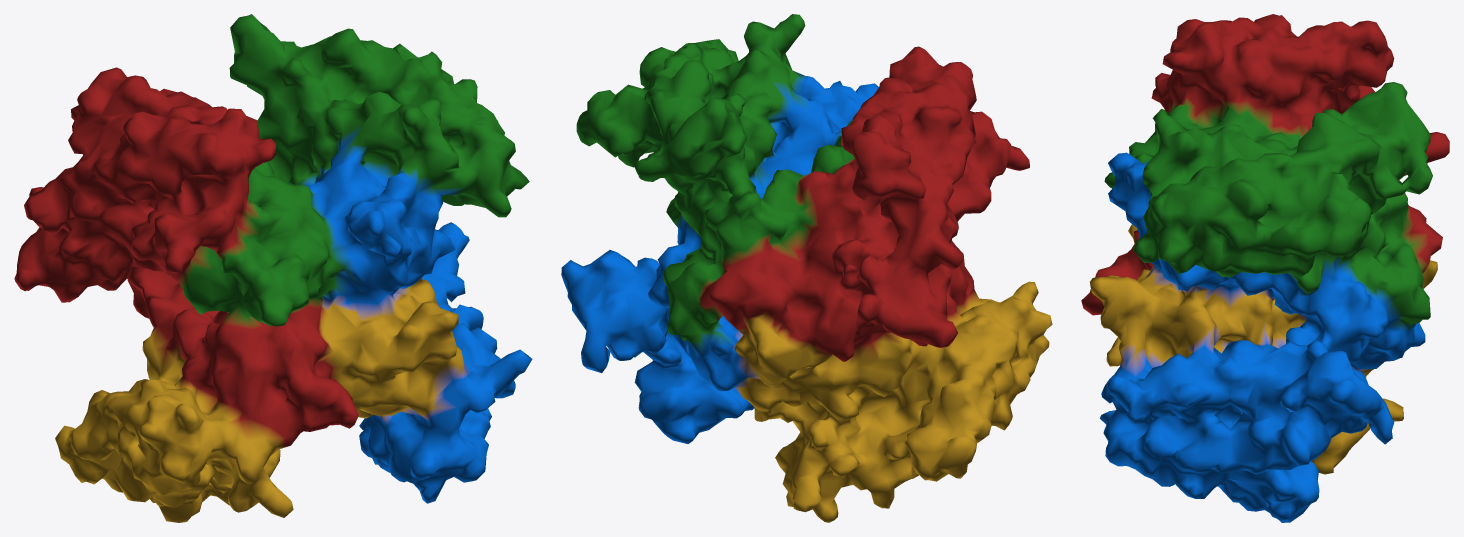
The model's file is ion-channel-lite.glb.
The picture shows the model from 3 angles, left to right: view 1: azimuth 30°, elevation 25°; view 2: azimuth 150°, elevation 25°; view 3: azimuth 270°, elevation 25°; orthographic projection. The views are drawn at different scales.
Parts seen in each view (by area): view 1: Surface #1; view 2: Surface #1; view 3: Surface #1.
Boxes of the visible parts, left/top/right/bottom form: Surface #1: left=14, top=14, right=532, bottom=522; Surface #1: left=561, top=14, right=1052, bottom=522; Surface #1: left=1081, top=14, right=1449, bottom=522.
Size of the model in its own units: 90.48 by 90.52 by 71.79.
